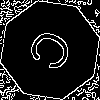C: (25, 25, 84, 80)
